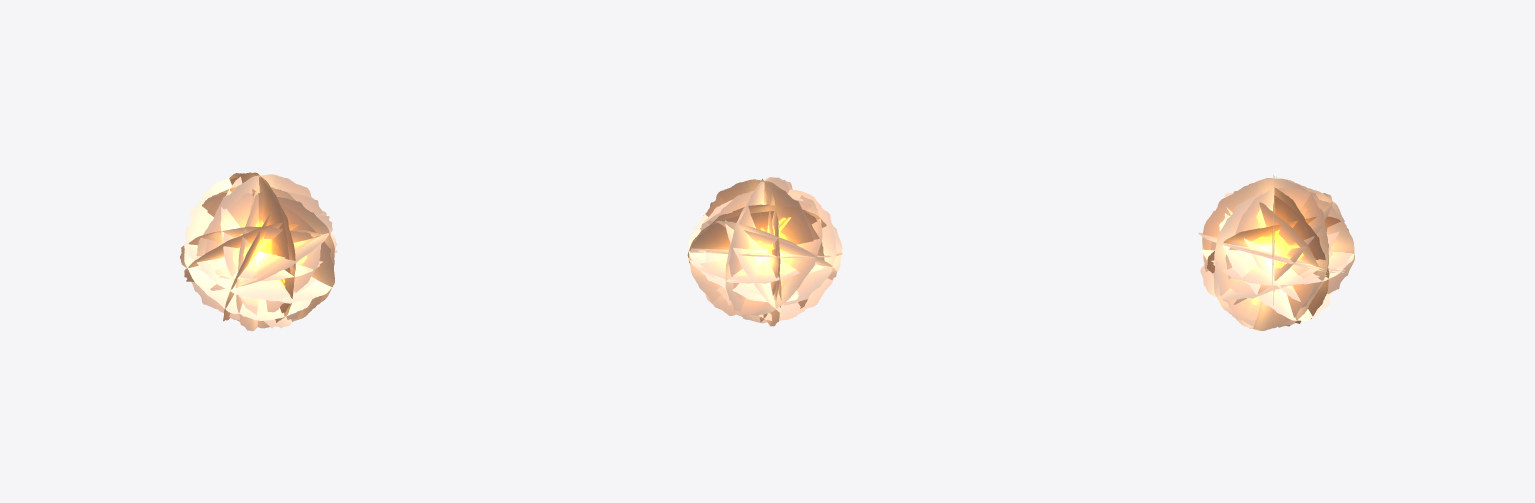
File: poderEspada.fbx
3 views of the same model, side by side, from view 1: azimuth 30°, elevation 25°; view 2: azimuth 150°, elevation 25°; view 3: azimuth 270°, elevation 25° (orthographic). The views are drawn at different scales.
Visible parts, largest first — view 1: Plane_60, Plane_5, Plane_54, Plane_32, Plane_4, Plane_6, Plane_1, Plane_35, Plane_2, Plane_46, Plane_42, Plane_58 (+2 smaller); view 2: Plane_14, Plane_26, Plane_37, Plane_64, Plane_38, Plane_36, Plane_53, Plane_7, Plane_13, Plane_22, Plane_19, Plane_33; view 3: Plane_17, Plane_35, Plane_16, Plane_48, Plane_53, Plane_21, Plane_38, Plane_49, Plane_19, Plane_44, Plane_3, Plane_45 (+3 smaller).
Boxes of the visible parts, x1,y1,x2,y2 form: Plane_60: [185, 232, 316, 300]; Plane_5: [184, 226, 293, 320]; Plane_54: [213, 192, 334, 304]; Plane_32: [259, 177, 290, 273]; Plane_4: [187, 178, 310, 318]; Plane_6: [184, 222, 298, 282]; Plane_1: [204, 175, 313, 304]; Plane_35: [207, 197, 334, 265]; Plane_2: [197, 192, 316, 256]; Plane_46: [195, 214, 321, 311]; Plane_42: [238, 215, 331, 286]; Plane_58: [214, 213, 326, 289]; Plane_14: [723, 190, 836, 305]; Plane_26: [719, 181, 813, 306]; Plane_37: [742, 219, 822, 316]; Plane_64: [689, 211, 773, 250]; Plane_38: [725, 220, 800, 316]; Plane_36: [705, 199, 821, 315]; Plane_53: [703, 195, 842, 320]; Plane_7: [729, 198, 764, 299]; Plane_13: [700, 225, 836, 279]; Plane_22: [688, 256, 796, 281]; Plane_19: [689, 200, 817, 316]; Plane_33: [689, 251, 798, 297]; Plane_17: [1202, 179, 1316, 249]; Plane_35: [1214, 206, 1261, 320]; Plane_16: [1202, 187, 1354, 253]; Plane_48: [1253, 223, 1317, 330]; Plane_53: [1259, 202, 1318, 267]; Plane_21: [1225, 188, 1274, 276]; Plane_38: [1207, 216, 1348, 273]; Plane_49: [1302, 193, 1327, 306]; Plane_19: [1274, 195, 1329, 318]; Plane_44: [1224, 190, 1330, 320]; Plane_3: [1234, 252, 1345, 285]; Plane_45: [1219, 216, 1331, 293].
Bounding box in the file's own units: 141 × 141 × 141.
